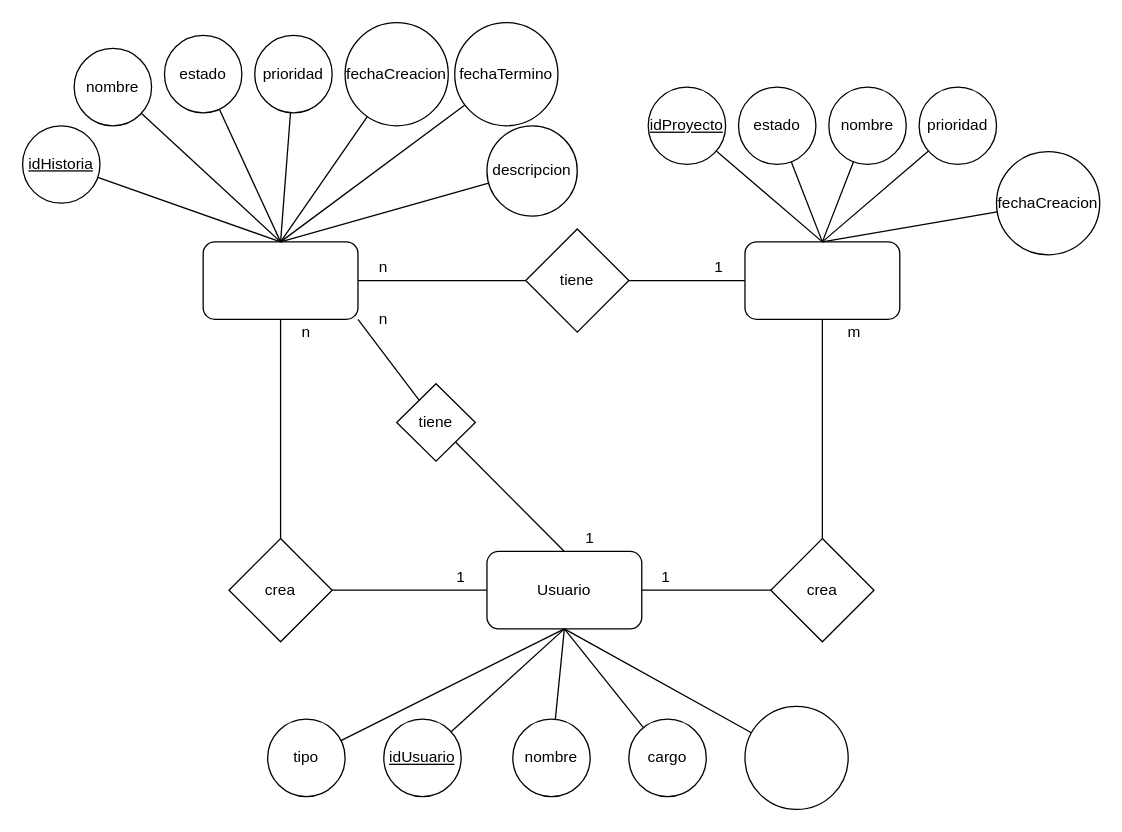
This 1122x832 diagram has some shape labels left out. Here are the shapes that lost their labels. From the top down, the box of each, then its label:
(202, 241, 358, 319): Historia
(744, 241, 900, 319): Proyecto
(744, 705, 848, 809): departamento
